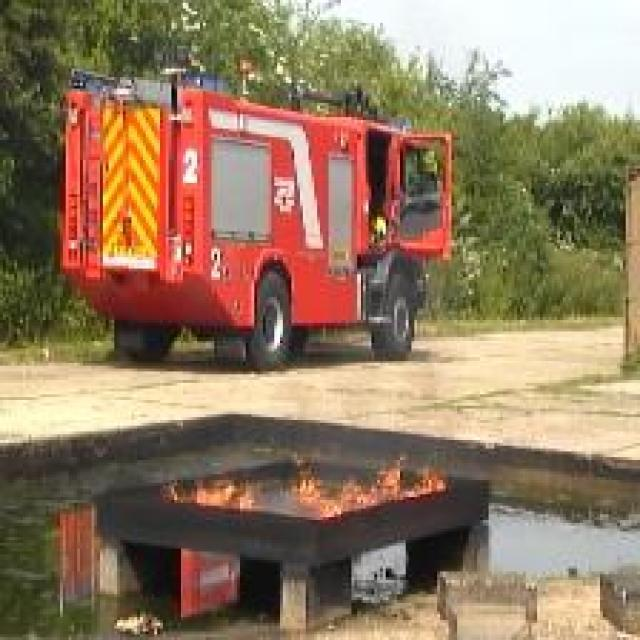Fire: (292, 454, 444, 520), (168, 476, 260, 513)
